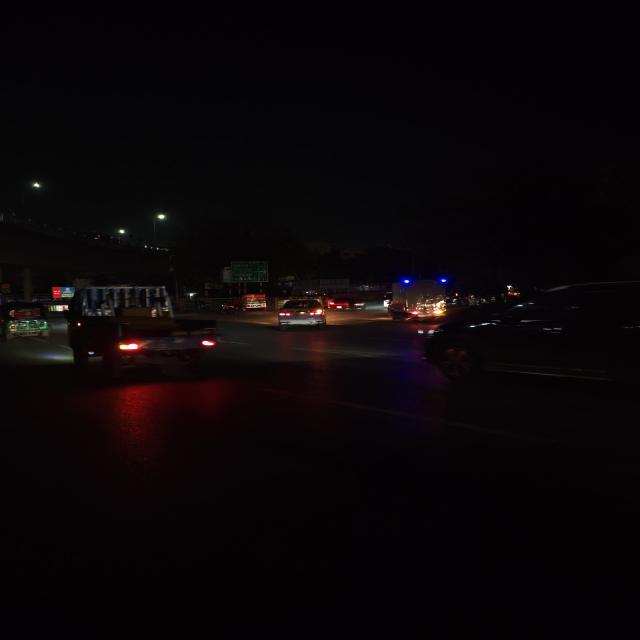car: (414, 278, 639, 401), (273, 297, 332, 330), (328, 294, 367, 312)
cng: (1, 303, 53, 341)
pickup_van: (59, 283, 221, 375)
truck: (387, 273, 447, 323)
